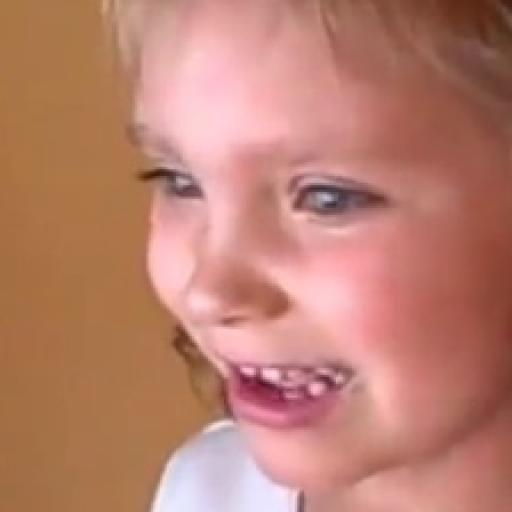Autism: (93, 14, 512, 492)
